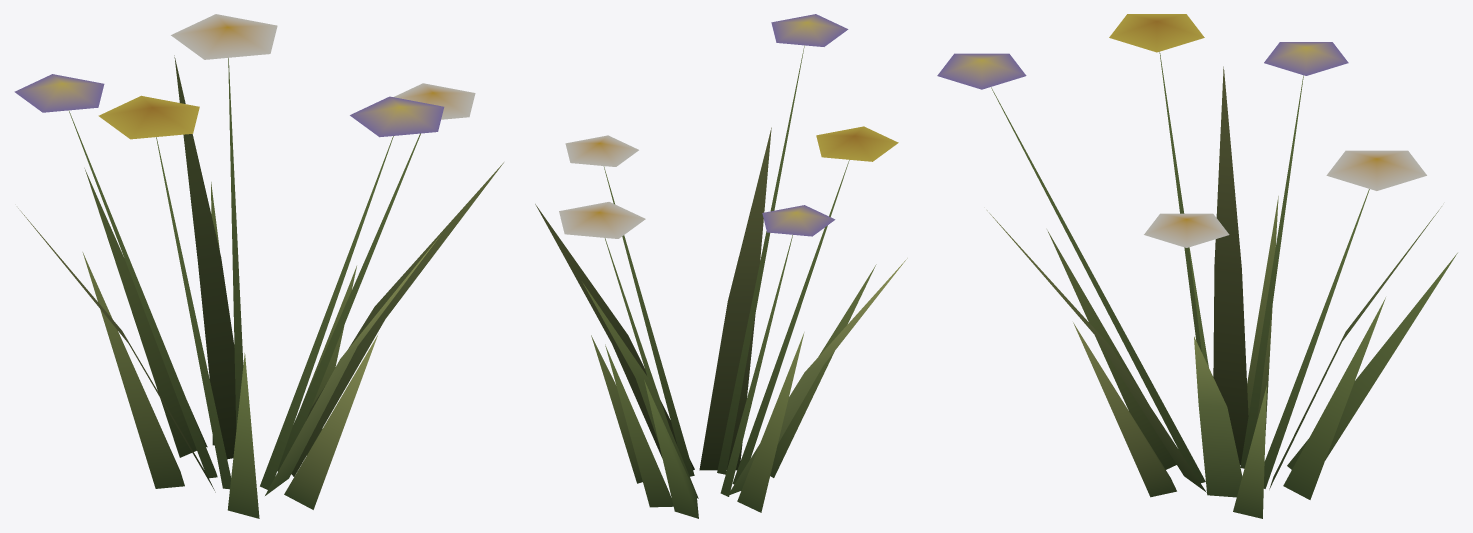
File: flower_tuft.glb
3 renders of one model, left to right at view 1: azimuth 30°, elevation 25°; view 2: azimuth 150°, elevation 25°; view 3: azimuth 270°, elevation 25°, orthographic. The views are drawn at different scales.
Parts seen in each view (by area): view 1: FlowerTuft; view 2: FlowerTuft; view 3: FlowerTuft.
Part boxes in pixels (x1,y1,x2,y2): FlowerTuft: (14, 14, 503, 518); FlowerTuft: (535, 14, 907, 518); FlowerTuft: (937, 14, 1457, 518).
Size of the model in its own units: 0.654 by 0.619 by 0.6726.
